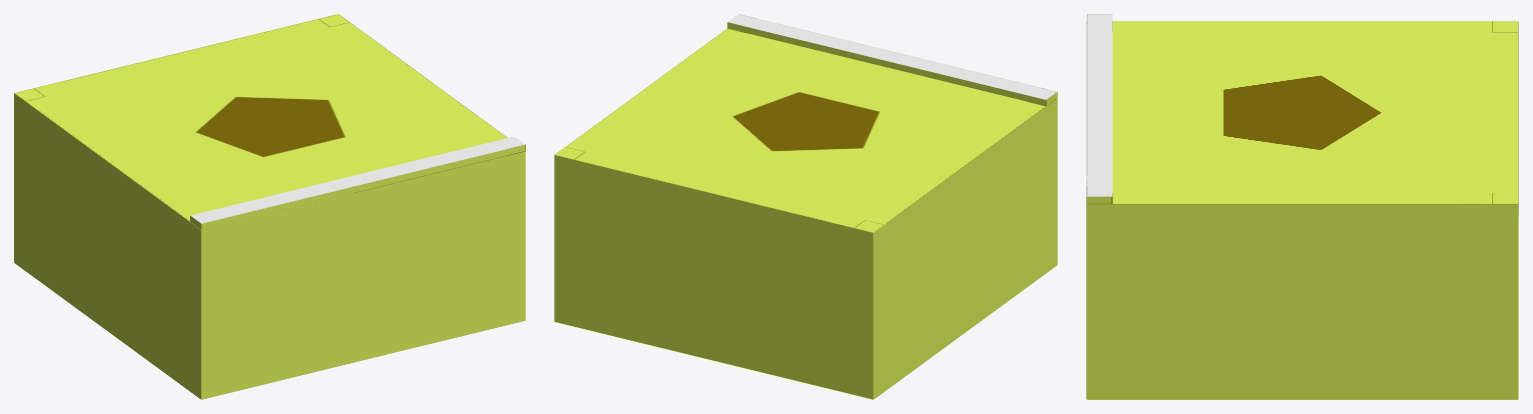
Rendered from 400_Floor_Side.FBX.
3 views of the same model, side by side, from view 1: azimuth 30°, elevation 25°; view 2: azimuth 150°, elevation 25°; view 3: azimuth 270°, elevation 25° (orthographic). The views are drawn at different scales.
Visible parts, largest first — view 1: 400FloorSide; view 2: 400FloorSide; view 3: 400FloorSide.
Part boxes in pixels (x1,y1,x2,y2): 400FloorSide: (14, 14, 525, 399); 400FloorSide: (554, 14, 1057, 399); 400FloorSide: (1086, 14, 1518, 399).
Size of the model in its own units: 400 by 208 by 400.
